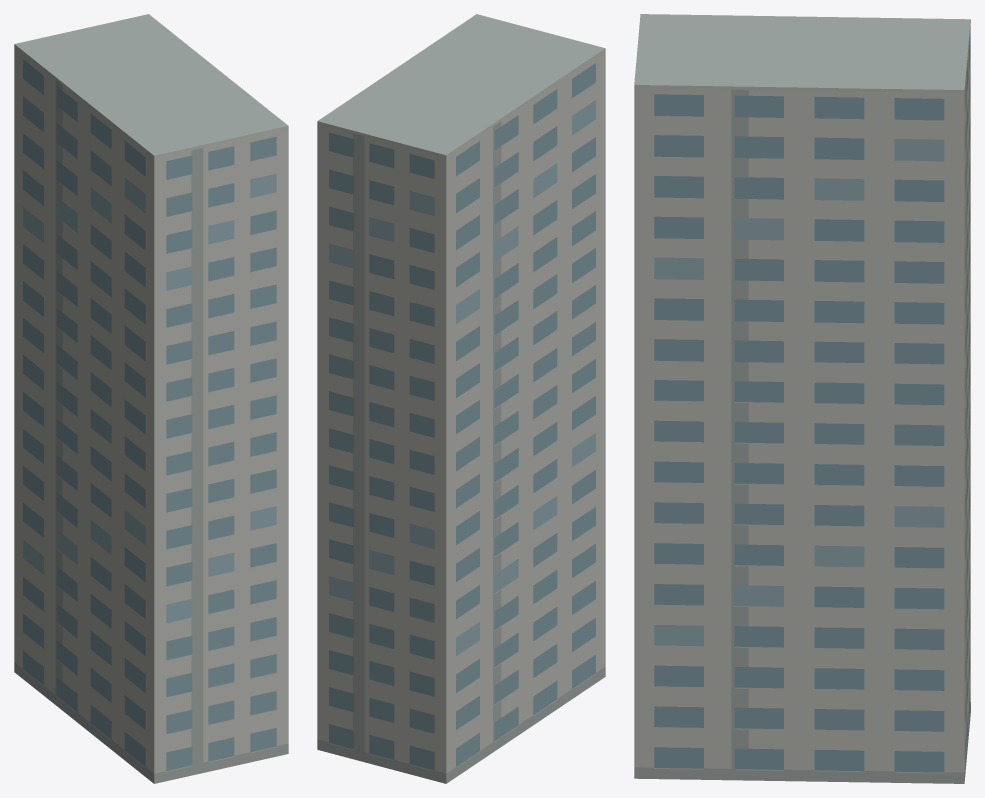
Rendered from residential-2ed86a88-2284-4183-95bc-139c4c0efa86.glb.
The picture shows the model from 3 angles, left to right: view 1: azimuth 30°, elevation 25°; view 2: azimuth 150°, elevation 25°; view 3: azimuth 270°, elevation 25°; orthographic projection. The views are drawn at different scales.
Visible parts, largest first — view 1: residential-2ed86a88-2284-4183-95bc-139c4c0efa86.tmp; view 2: residential-2ed86a88-2284-4183-95bc-139c4c0efa86.tmp; view 3: residential-2ed86a88-2284-4183-95bc-139c4c0efa86.tmp.
Part boxes in pixels (left/top/right/bottom): residential-2ed86a88-2284-4183-95bc-139c4c0efa86.tmp: left=14, top=14, right=288, bottom=783; residential-2ed86a88-2284-4183-95bc-139c4c0efa86.tmp: left=317, top=14, right=605, bottom=783; residential-2ed86a88-2284-4183-95bc-139c4c0efa86.tmp: left=634, top=14, right=970, bottom=783.
Size of the model in its own units: 12.48 by 53 by 23.31.
